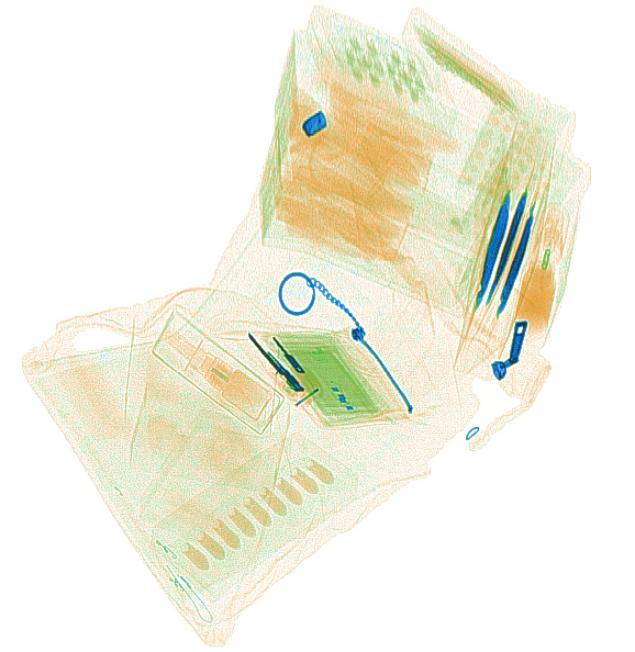plasticBottleWithaNozzle: (150, 314, 281, 431), (512, 199, 568, 338)
